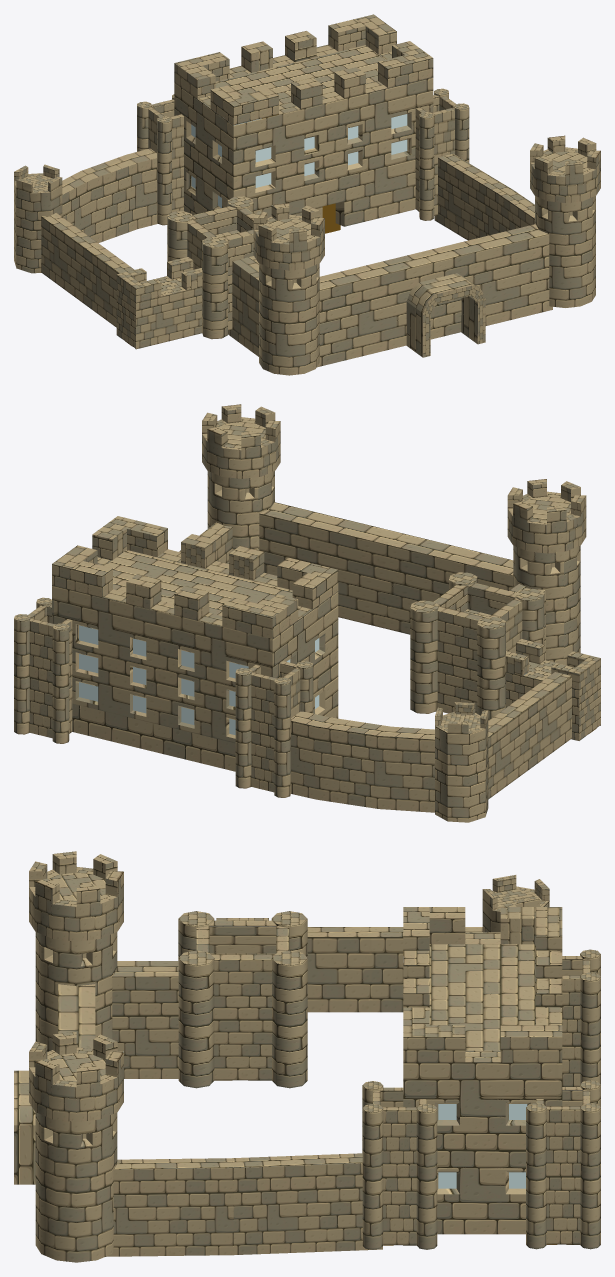
Rendered from Castle (1).fbx.
3 renders of one model, top to bottom at view 1: azimuth 30°, elevation 25°; view 2: azimuth 150°, elevation 25°; view 3: azimuth 270°, elevation 25°, orthographic. The views are drawn at different scales.
Parts seen in each view (by area): view 1: Box007; view 2: Box007; view 3: Box007.
Part boxes in pixels (bbox=[...]): Box007: bbox=[14, 14, 600, 375]; Box007: bbox=[14, 404, 600, 822]; Box007: bbox=[14, 851, 600, 1262].
Bounding box in the file's own units: 122 × 43.74 × 112.
